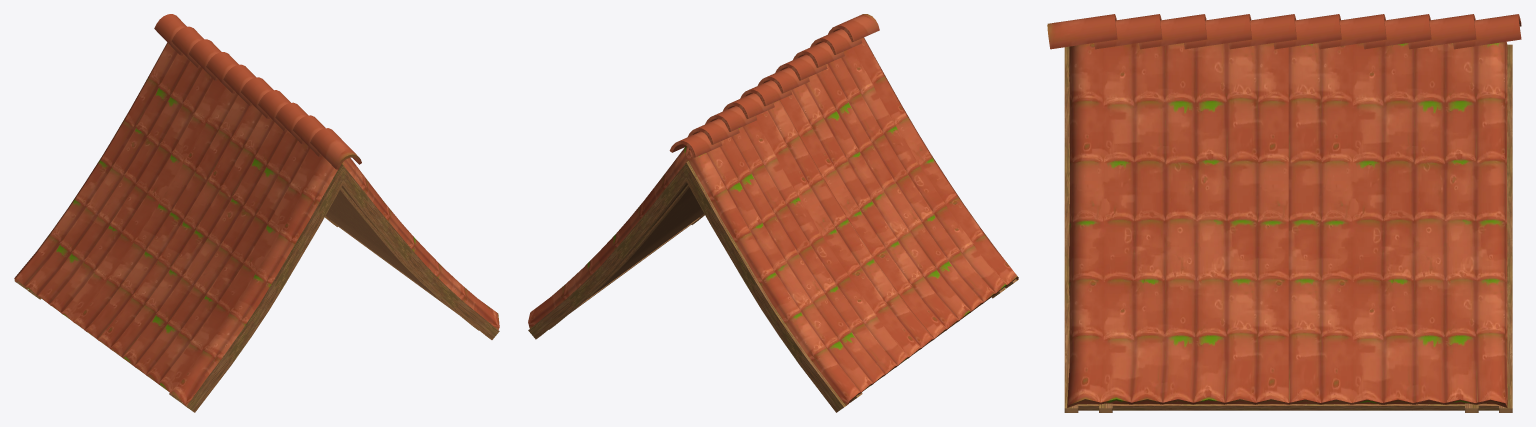
File: mv_roof_6x6.glb
The picture shows the model from 3 angles, left to right: view 1: azimuth 30°, elevation 25°; view 2: azimuth 150°, elevation 25°; view 3: azimuth 270°, elevation 25°; orthographic projection. The views are drawn at different scales.
Parts seen in each view (by area): view 1: Roof_RoundTiles_6x6; view 2: Roof_RoundTiles_6x6; view 3: Roof_RoundTiles_6x6.
Boxes of the visible parts, x1,y1,x2,y2 form: Roof_RoundTiles_6x6: [14, 14, 499, 412]; Roof_RoundTiles_6x6: [528, 14, 1018, 412]; Roof_RoundTiles_6x6: [1047, 14, 1521, 412].
Size of the model in its own units: 8.25 by 5.67 by 8.03.
Materials: 2 (2 with a texture image).
